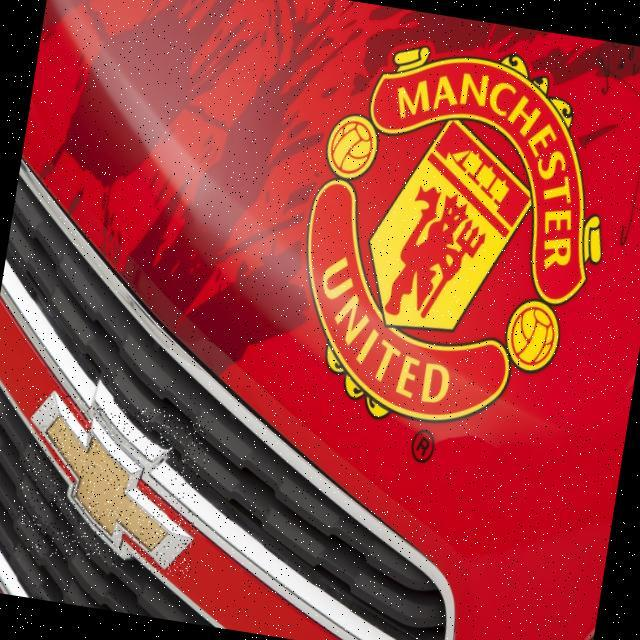Chevrolet: (11, 391, 213, 579)
